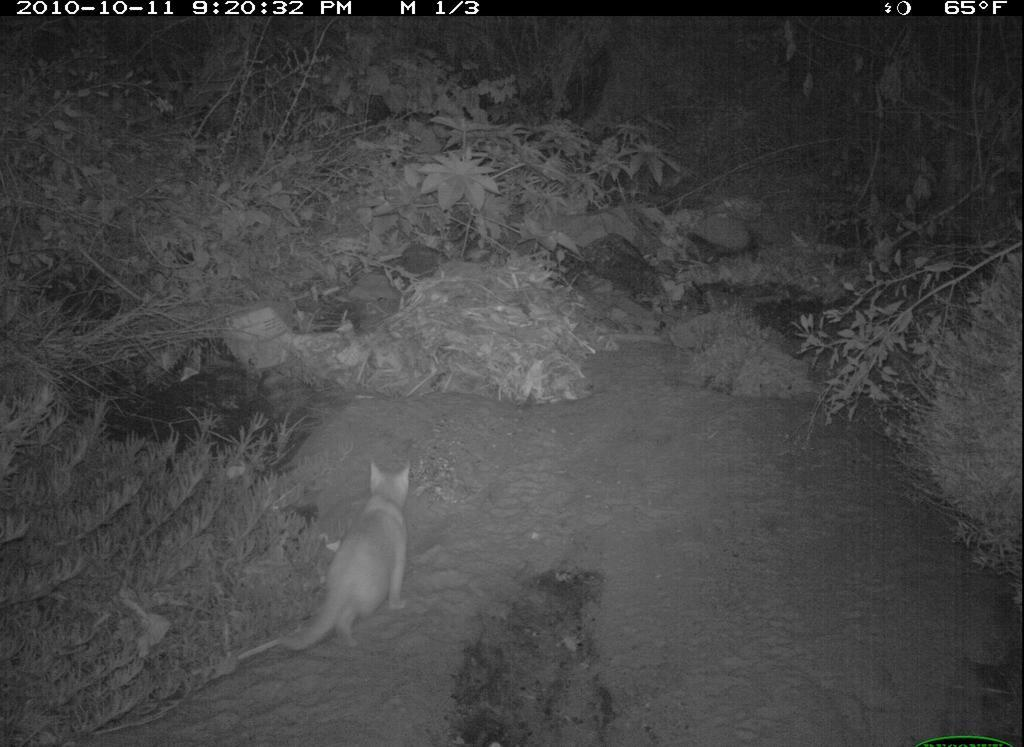cat: (272, 457, 429, 656)
